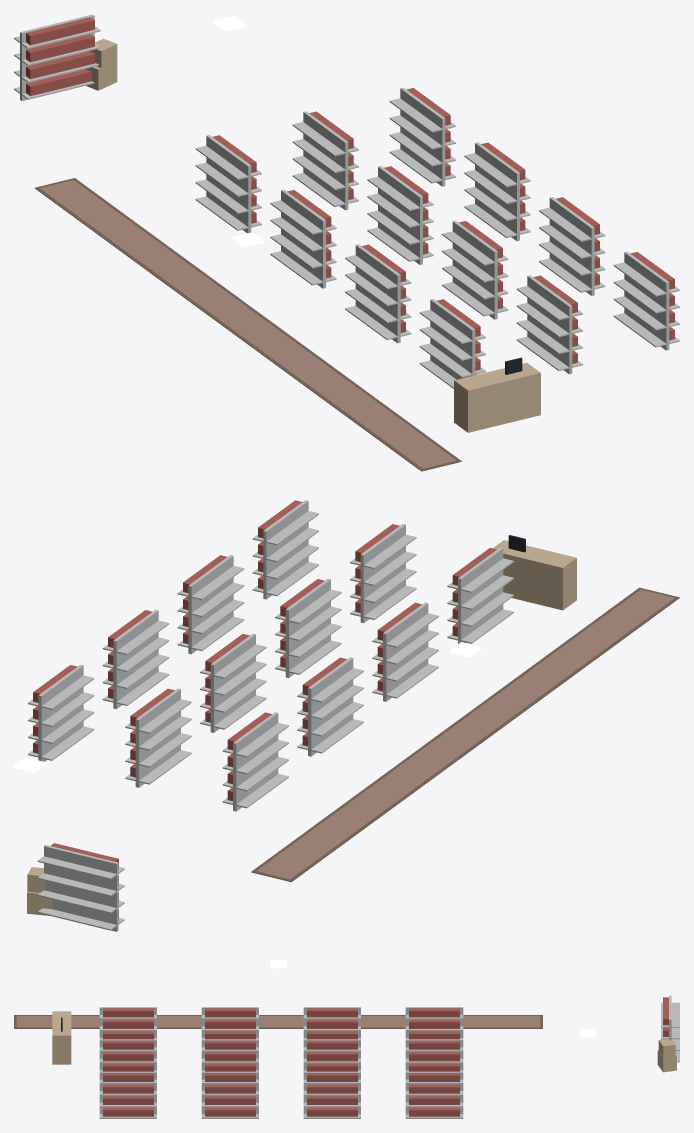
The model's file is fine-s0.glb.
The picture shows the model from 3 angles, top to bottom: view 1: azimuth 30°, elevation 25°; view 2: azimuth 150°, elevation 25°; view 3: azimuth 270°, elevation 25°; orthographic projection. The views are drawn at different scales.
Parts seen in each view (by area): view 1: soft-s0, shelving.000, shop-counter.000, shelf.004, shelf.001, shelf.002, shelf.007, shelf.011, shelf.000, shelf.005, shelf.006, shelf.008 (+4 smaller); view 2: soft-s0, shelving.000, shelf.001, shelf.000, shelf.002, shelf.006, shelf.010, shelf.003, shelf.005, shelf.007, shelf.011, shelf.004 (+4 smaller); view 3: soft-s0, shelf.008, shelf.009, shelf.010, shelf.011, shelf.004, shelf.000, shelf.005, shelf.006, shelf.007, shelf.001, shelf.002 (+4 smaller).
Part boxes in pixels (x1,y1,x2,y2): soft-s0: [34, 178, 461, 471]; shelving.000: [14, 14, 100, 100]; shop-counter.000: [454, 357, 540, 432]; shelf.004: [292, 111, 358, 210]; shelf.001: [270, 189, 336, 288]; shelf.002: [345, 244, 411, 343]; shelf.007: [516, 275, 582, 374]; shelf.011: [613, 251, 679, 350]; shelf.000: [195, 135, 261, 233]; shelf.005: [367, 166, 433, 264]; shelf.006: [442, 220, 508, 319]; shelf.008: [389, 87, 455, 186]; soft-s0: [251, 587, 679, 882]; shelving.000: [37, 843, 124, 931]; shelf.001: [297, 657, 363, 756]; shelf.000: [222, 712, 288, 811]; shelf.002: [372, 602, 438, 701]; shelf.006: [275, 578, 341, 677]; shelf.010: [177, 555, 244, 654]; shelf.003: [447, 547, 513, 643]; shelf.005: [200, 633, 266, 732]; shelf.007: [350, 524, 416, 623]; shelf.011: [252, 500, 318, 599]; shelf.004: [125, 688, 191, 787]; soft-s0: [14, 1015, 542, 1028]; shelf.008: [405, 1071, 463, 1118]; shelf.009: [303, 1071, 360, 1118]; shelf.010: [201, 1071, 258, 1118]; shelf.011: [99, 1071, 156, 1118]; shelf.004: [405, 1039, 463, 1071]; shelf.000: [405, 1007, 463, 1039]; shelf.005: [303, 1039, 360, 1071]; shelf.006: [201, 1039, 258, 1071]; shelf.007: [99, 1039, 156, 1071]; shelf.001: [303, 1007, 360, 1039]; shelf.002: [201, 1007, 258, 1039].
Size of the model in its own units: 7.94 by 2.03 by 20.89.
